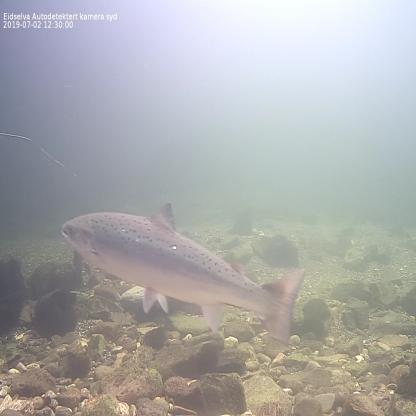salmon: (59, 198, 310, 352)
